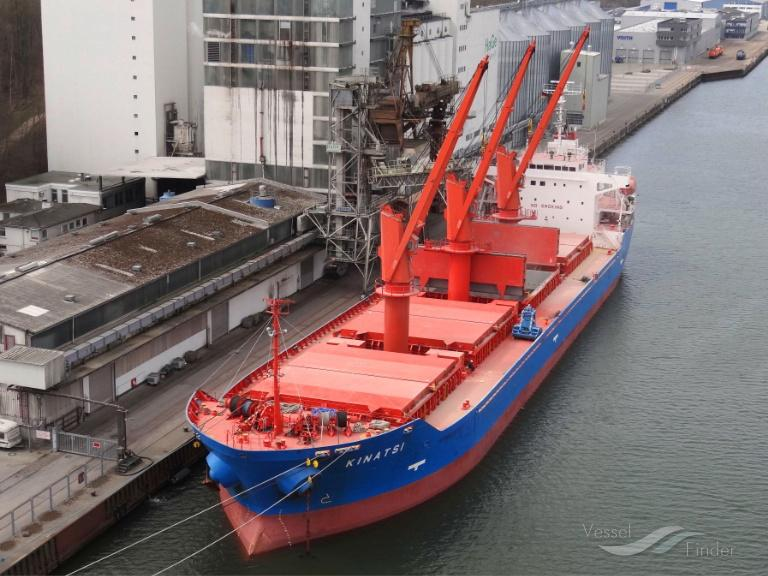OCR: (335, 436, 410, 474)
